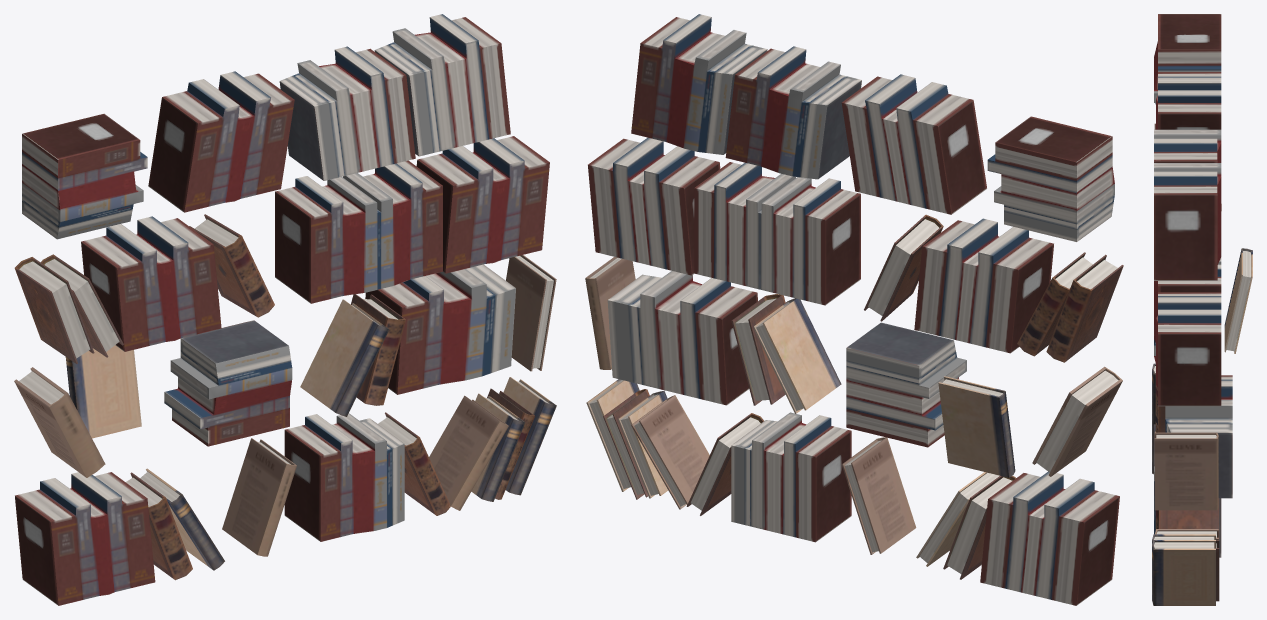
The model's file is Book_Set_BookShelf_B.FBX.
3 renders of one model, left to right at view 1: azimuth 30°, elevation 25°; view 2: azimuth 150°, elevation 25°; view 3: azimuth 270°, elevation 25°, orthographic. The views are drawn at different scales.
Visible parts, largest first — view 1: Book_Set_BookShelf_B; view 2: Book_Set_BookShelf_B; view 3: Book_Set_BookShelf_B.
Part boxes in pixels (x1=…): Book_Set_BookShelf_B: x1=14, y1=14, x2=556, y2=605; Book_Set_BookShelf_B: x1=585, y1=14, x2=1123, y2=605; Book_Set_BookShelf_B: x1=1152, y1=14, x2=1252, y2=605.
Bounding box in the file's own units: 143 × 126 × 27.85.
